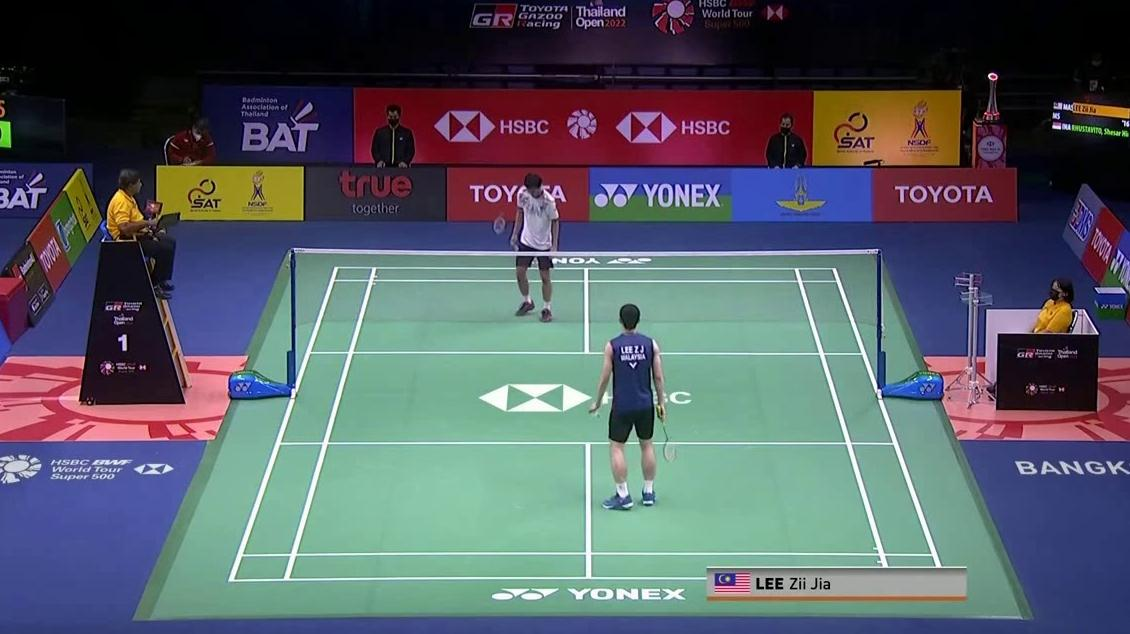racket: (656, 405, 678, 462), (492, 212, 519, 251)
shuttle: (588, 407, 601, 418)
